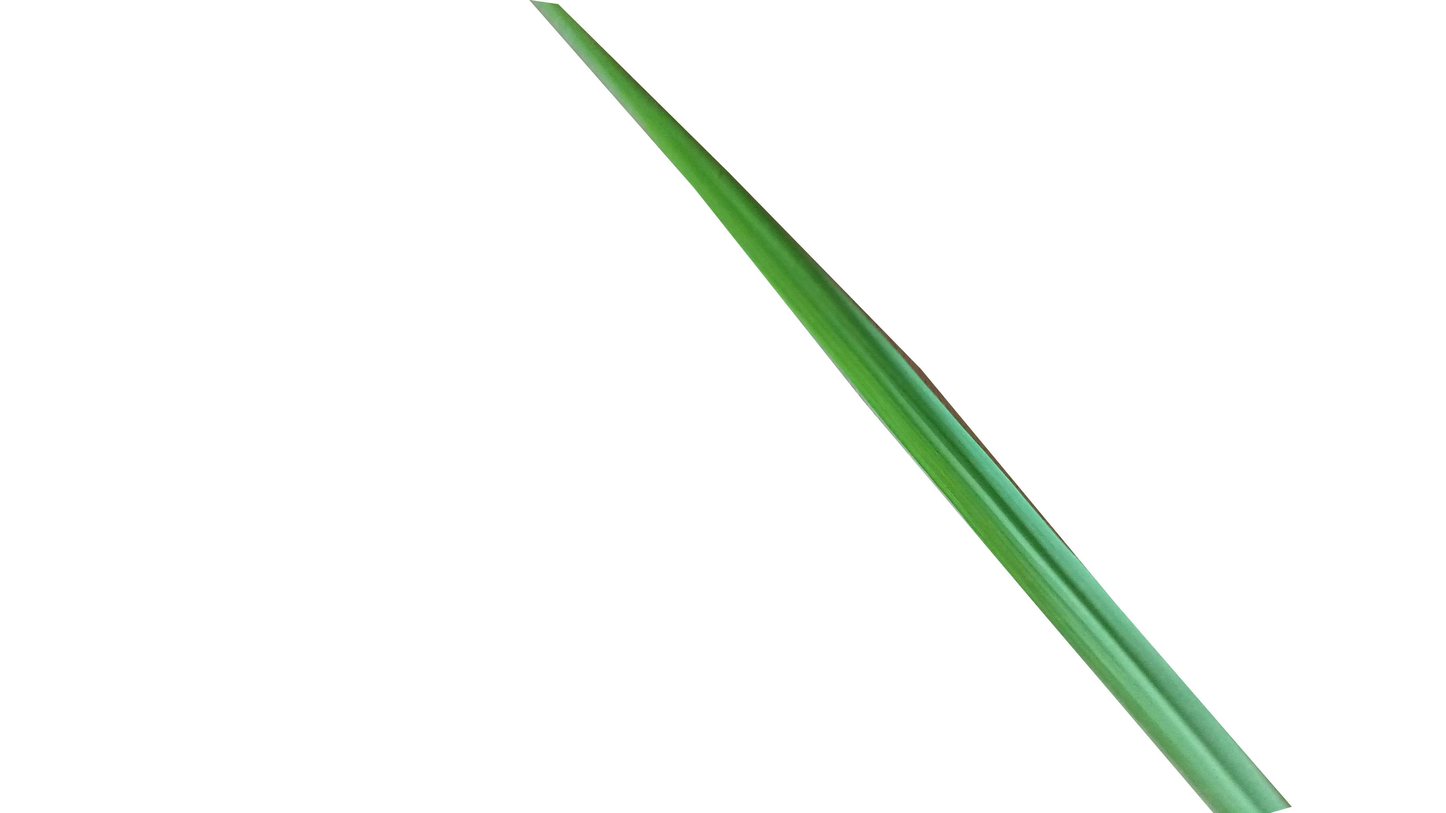Healthy: (527, 0, 1297, 813)
